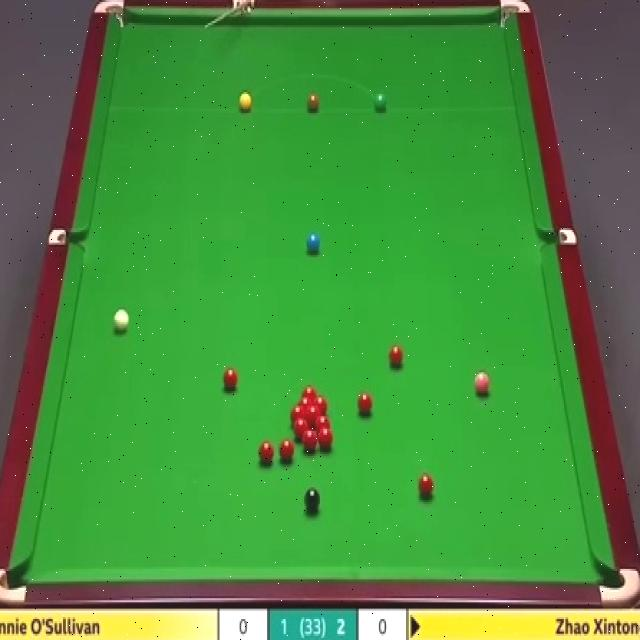black-ball: (304, 488, 321, 513)
blue-ball: (306, 232, 322, 255)
brown-ball: (307, 93, 320, 113)
green-ball: (374, 92, 387, 112)
pink-ball: (473, 370, 492, 400)
red-ball: (418, 472, 436, 499), (388, 343, 406, 368), (222, 367, 238, 392), (356, 392, 372, 417), (260, 438, 276, 462), (302, 428, 318, 451), (279, 440, 294, 464), (318, 426, 333, 450), (292, 418, 308, 438), (311, 396, 328, 413), (314, 416, 331, 430), (305, 406, 321, 420), (290, 405, 305, 418), (301, 385, 318, 396), (298, 396, 315, 406)
white-ball: (114, 309, 128, 333)
yellow-ball: (238, 90, 252, 114)
